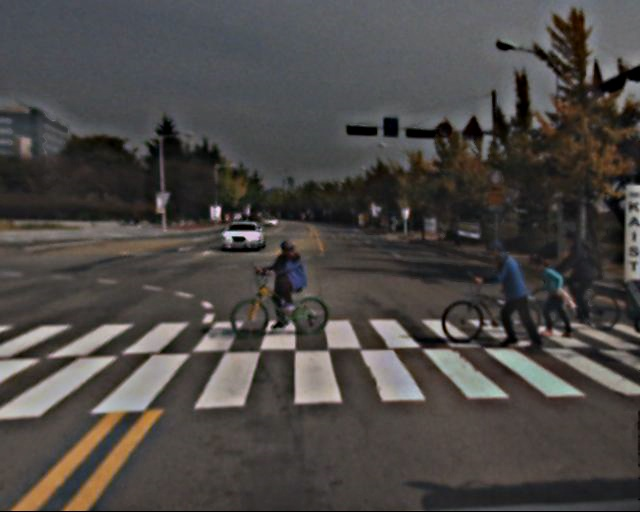person: (496, 247, 537, 347), (275, 242, 311, 330), (563, 232, 599, 319), (538, 258, 570, 335)
